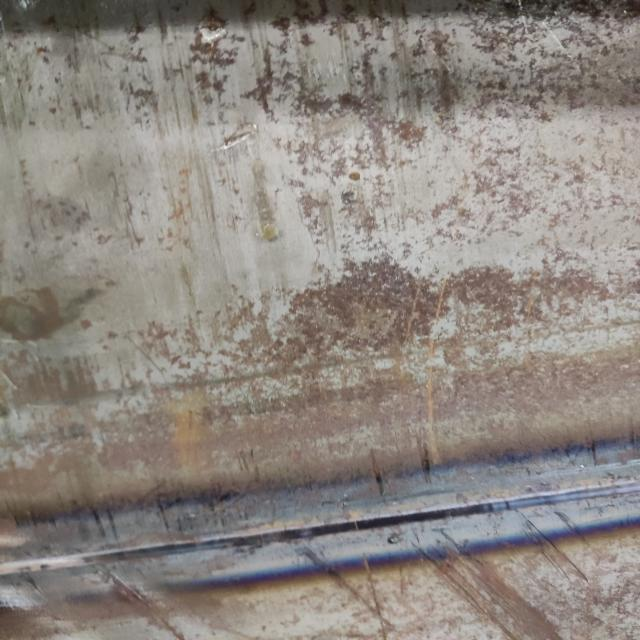seam: (0, 419, 640, 623)
